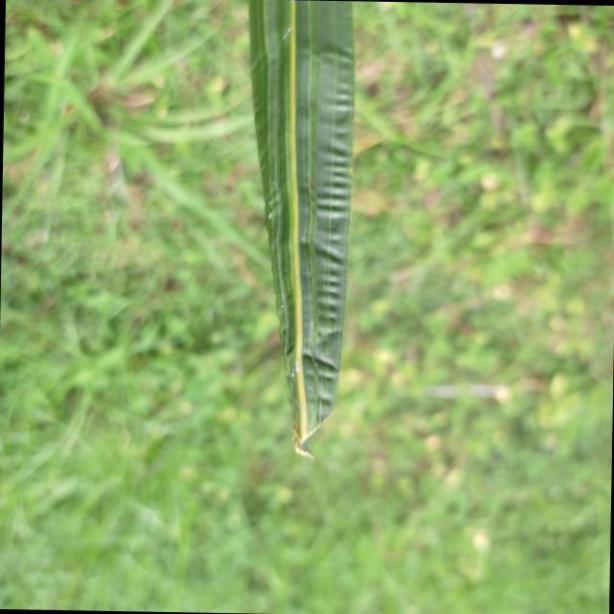Boron: (245, 0, 363, 451)
